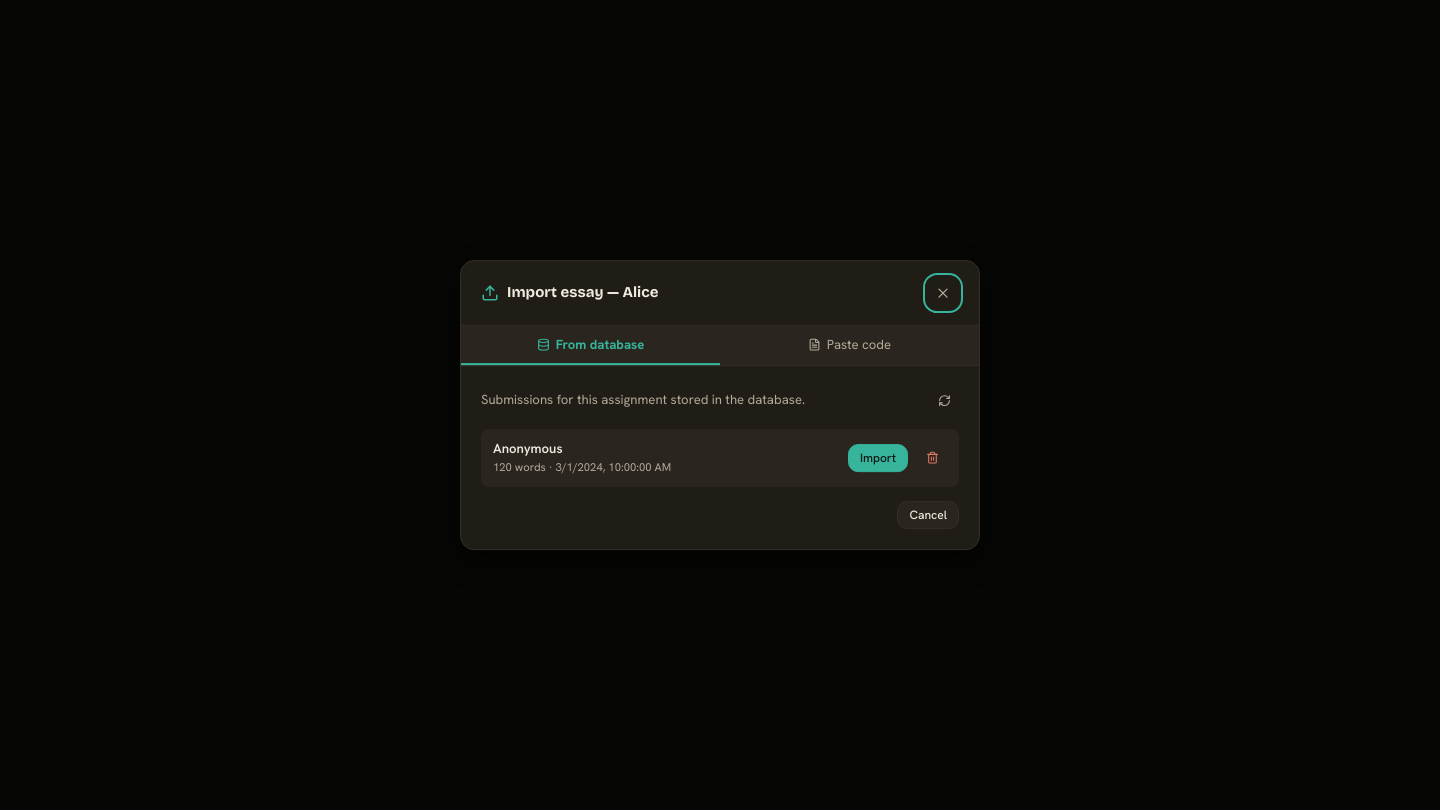
Scenario: EssayImportModal › database tab › falls back to the student name when importing an anonymous submission
Click the button "Import": (878, 458) [848,444,908,472]
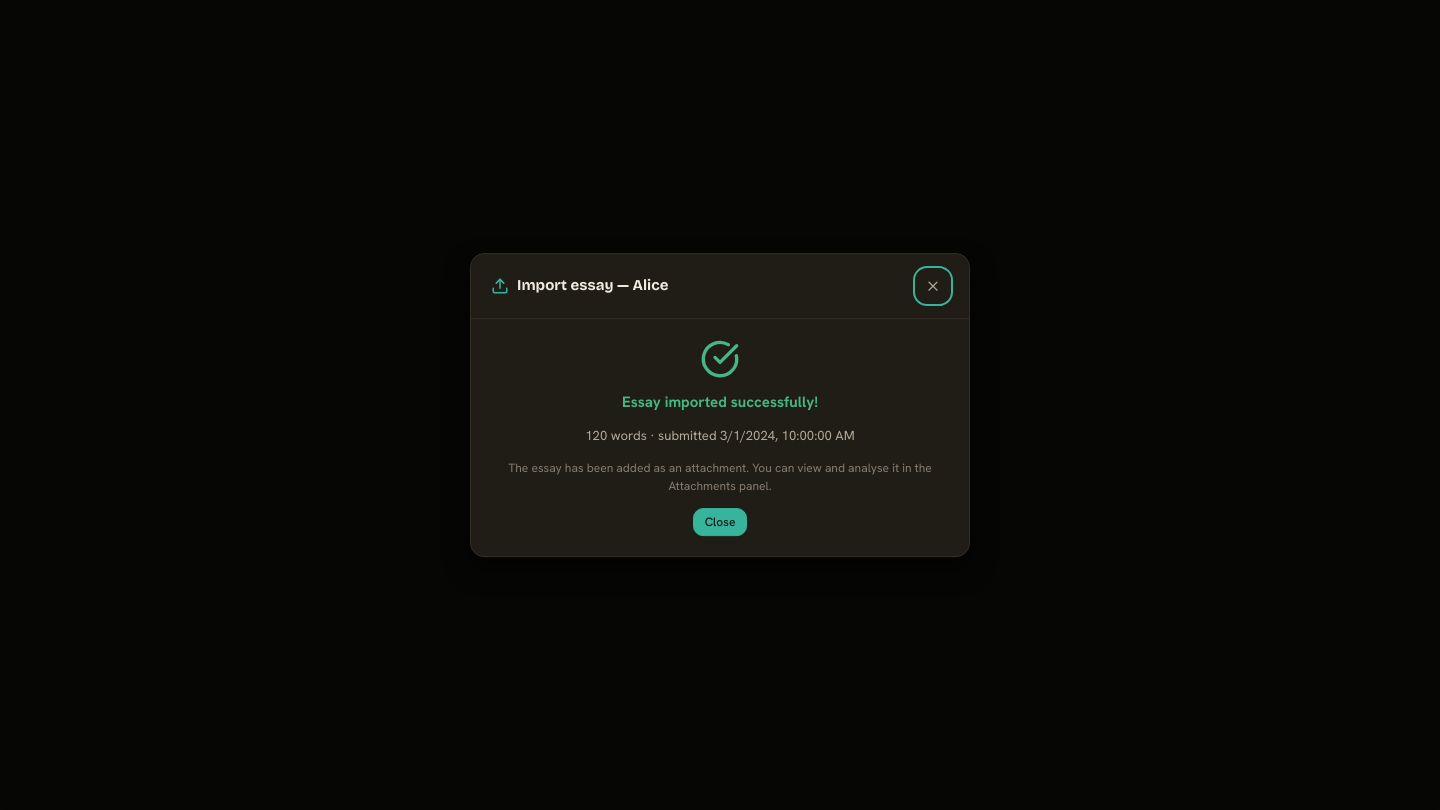
Expected: the text "Essay imported successfully!" is shown, [622,391,818,414]
